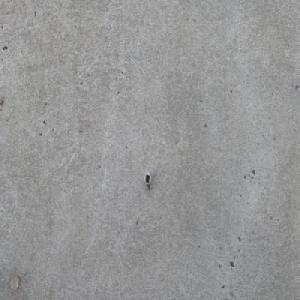MetalPart: (143, 171, 152, 192)
